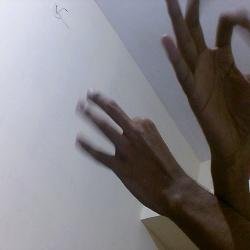hand: (72, 77, 182, 210)
